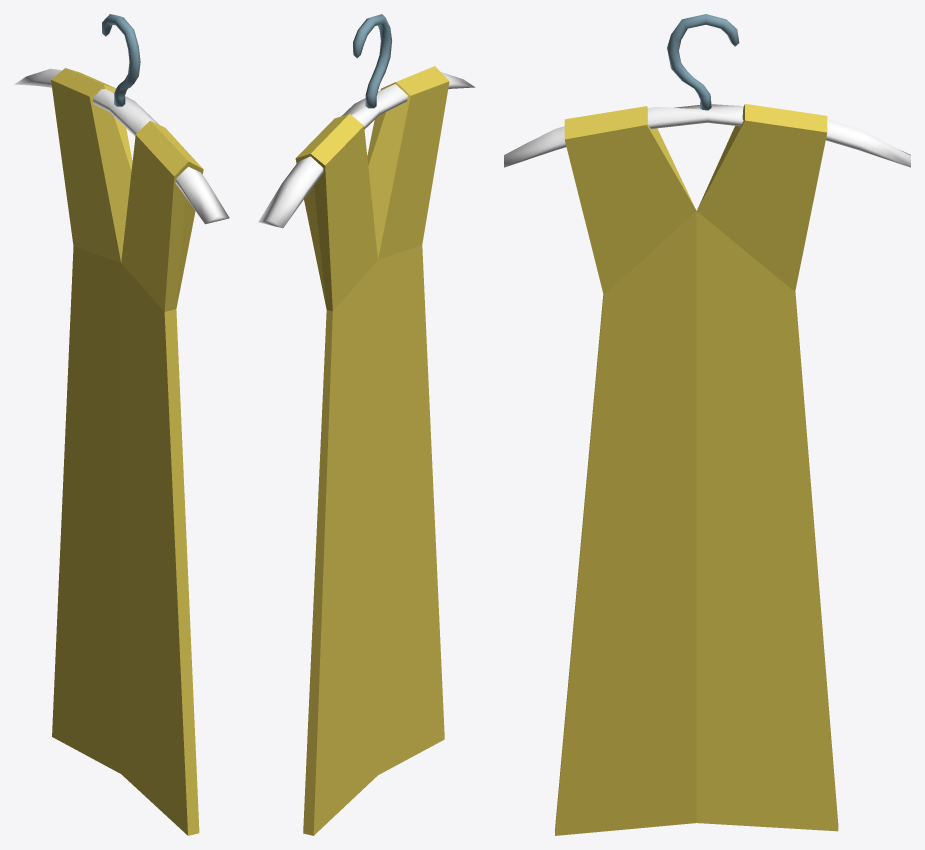
Rendered from dress2.fbx.
The picture shows the model from 3 angles, left to right: view 1: azimuth 30°, elevation 25°; view 2: azimuth 150°, elevation 25°; view 3: azimuth 270°, elevation 25°; orthographic projection. The views are drawn at different scales.
Parts seen in each view (by area): view 1: Cube.010, Cube.011; view 2: Cube.010, Cube.011; view 3: Cube.010, Cube.011.
Part boxes in pixels (x1,y1,x2,y2): Cube.010: [51, 68, 203, 835]; Cube.011: [14, 14, 229, 224]; Cube.010: [295, 66, 449, 835]; Cube.011: [258, 14, 475, 228]; Cube.010: [555, 104, 838, 835]; Cube.011: [504, 14, 910, 167].
Size of the model in its own units: 16.06 by 401 by 181.
